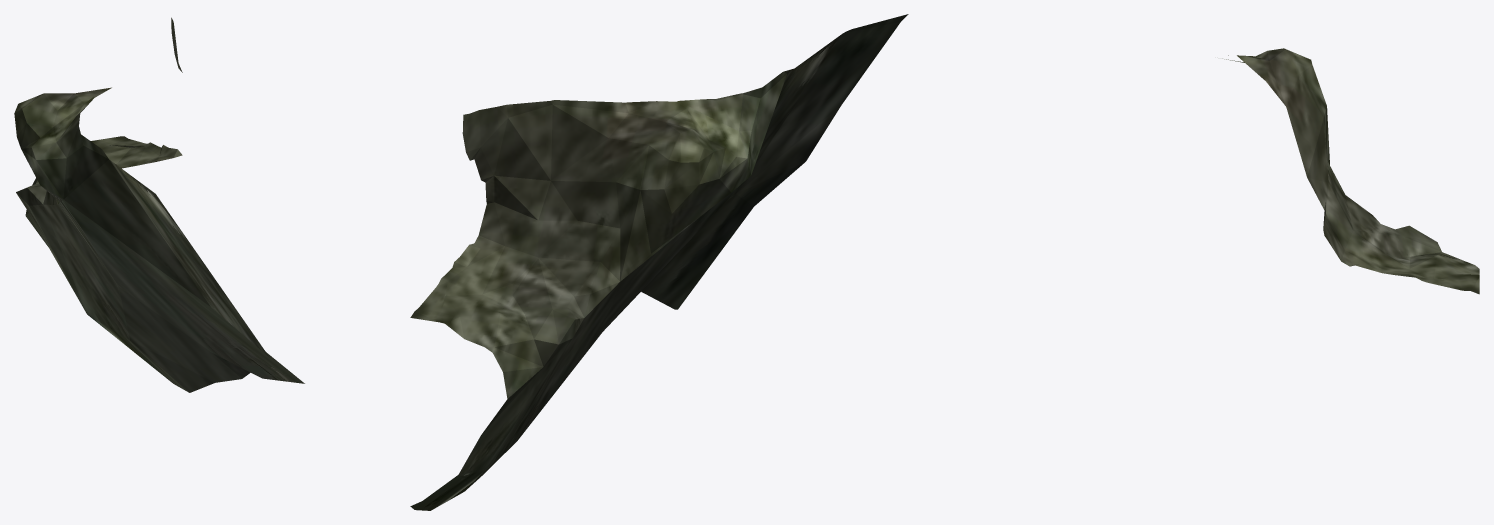
3 renders of one model, left to right at view 1: azimuth 30°, elevation 25°; view 2: azimuth 150°, elevation 25°; view 3: azimuth 270°, elevation 25°, orthographic. The views are drawn at different scales.
Size of the model in its own units: 1.47 by 2.3 by 2.95.
Materials: 2 (2 with a texture image).
